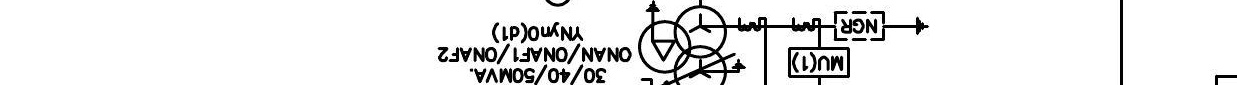MU: (787, 47, 851, 79)
NGR_future: (833, 10, 930, 42)
